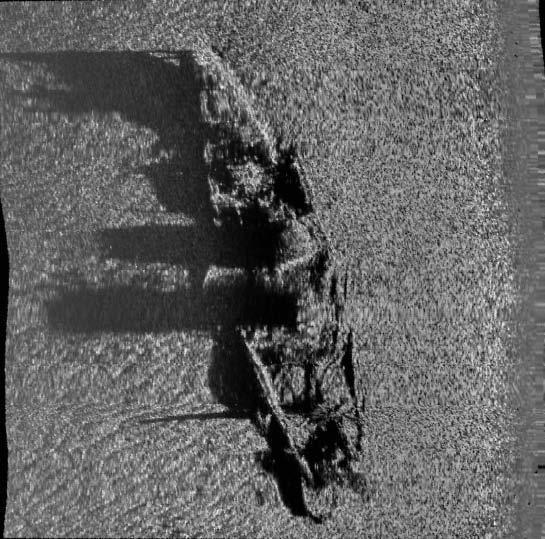ship: (187, 32, 369, 524)
